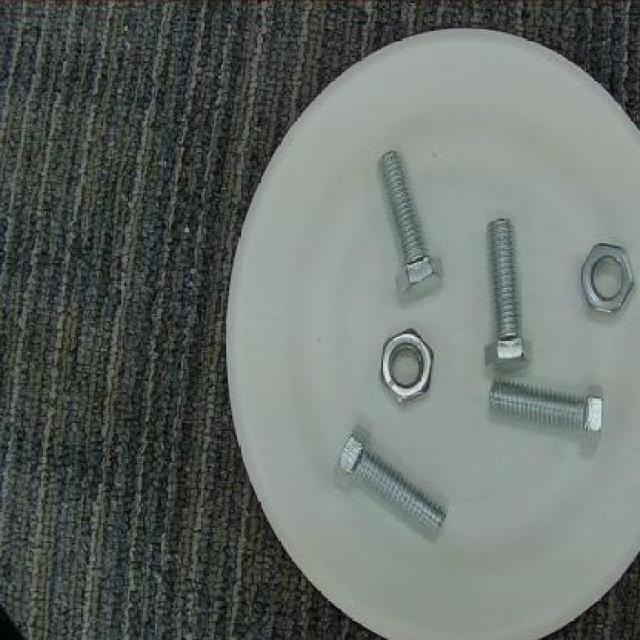Bolt: (327, 423, 454, 546), (373, 146, 451, 308), (483, 378, 610, 458), (481, 214, 540, 375)
Nut: (376, 323, 439, 405), (576, 238, 637, 320)
